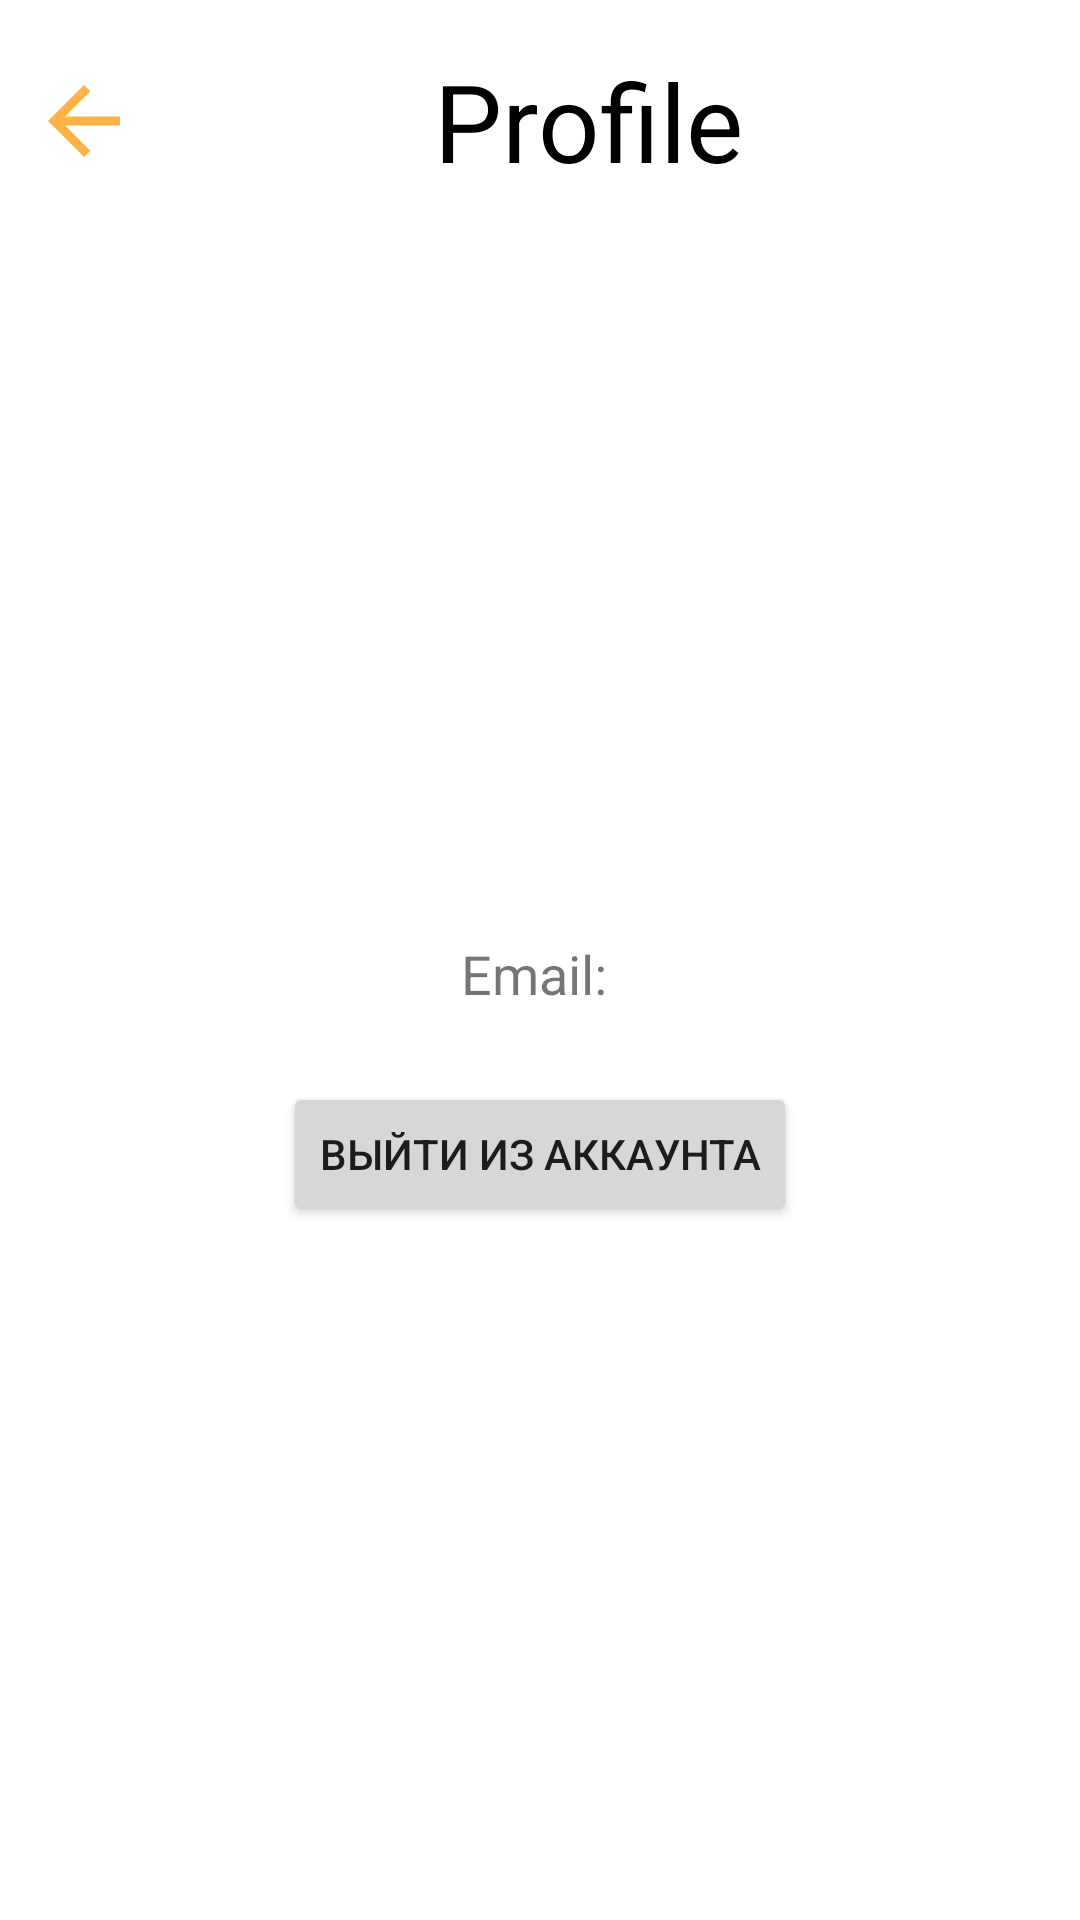

Screen size 1080*1920. Icon name, then its center in pixels as [x,y]:
Back Button: [84,121]
